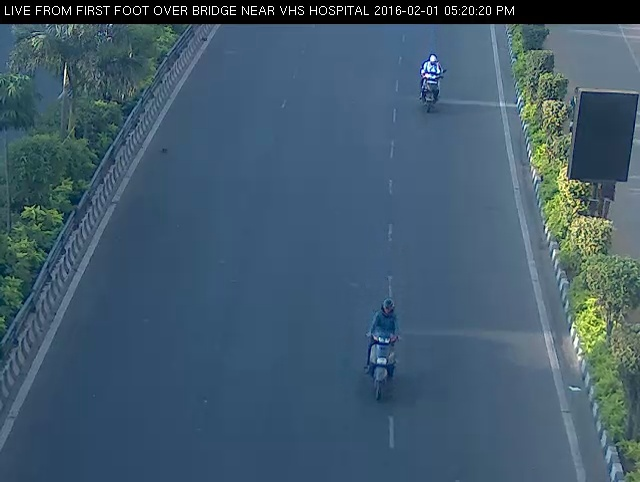Person: (358, 286, 412, 408), (413, 47, 450, 118)
